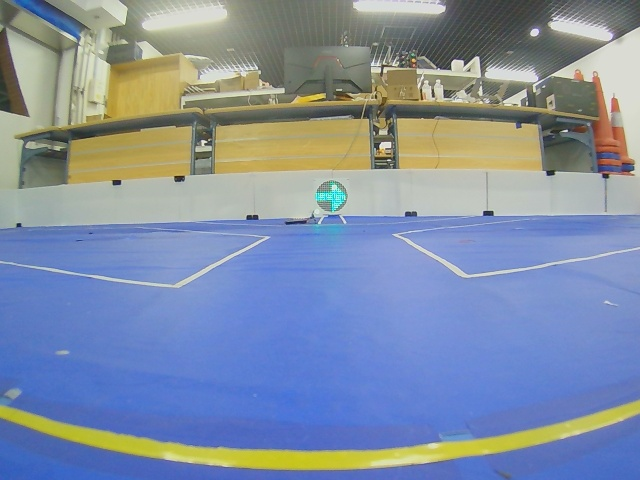right_green: (315, 180, 348, 212)
